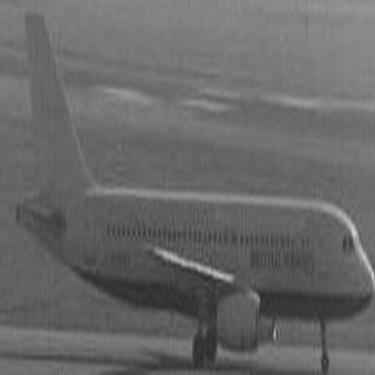airplane: (8, 5, 370, 362)
